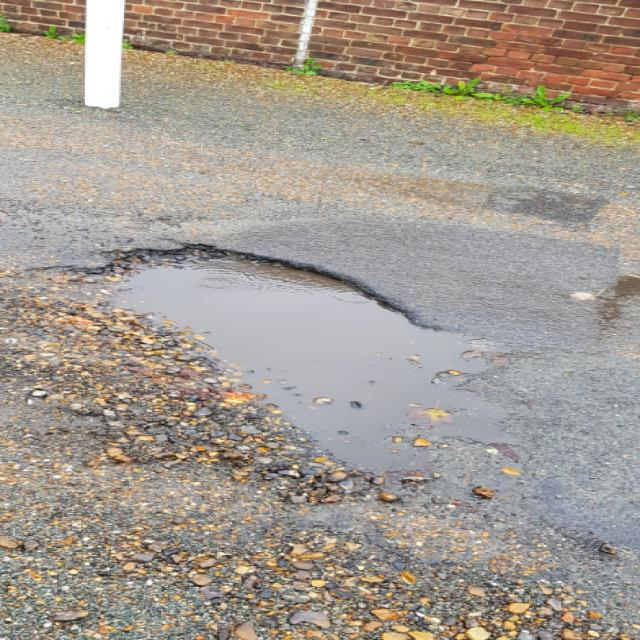Pothole: (40, 240, 514, 482)
